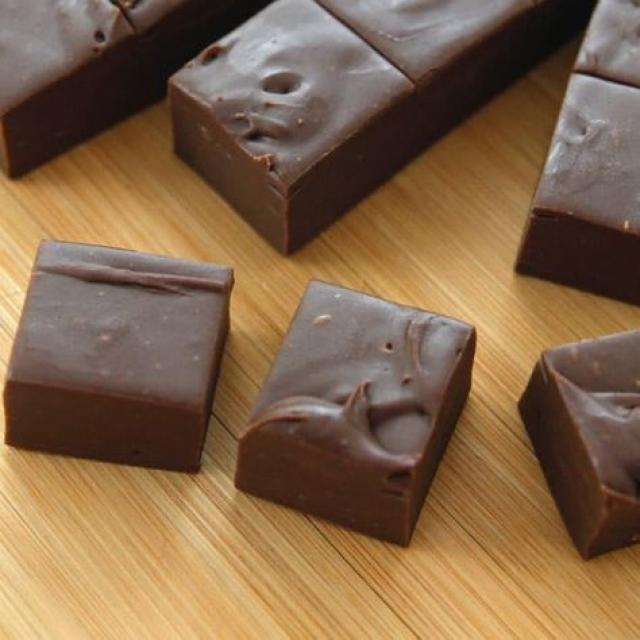chocolate: (0, 0, 640, 309), (236, 282, 476, 542), (0, 240, 240, 469), (510, 320, 640, 563)
